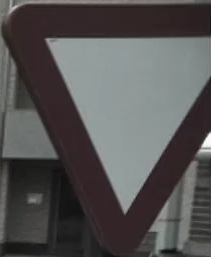Give way: (4, 4, 198, 253)
